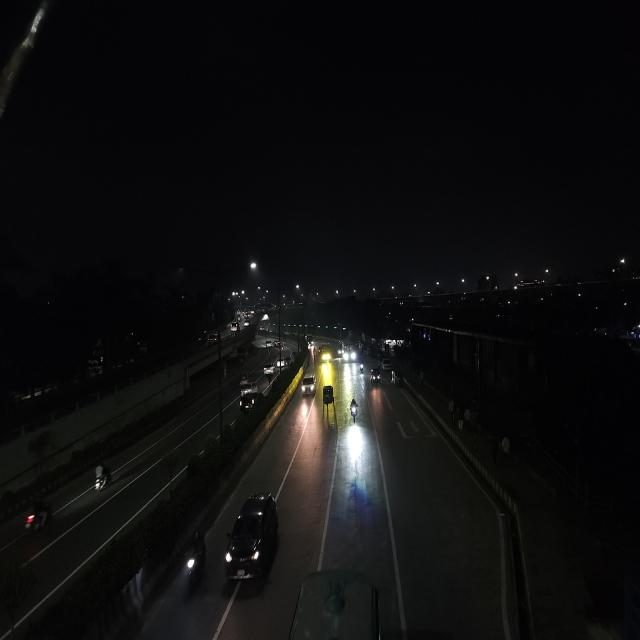bus: (340, 333, 358, 364), (319, 343, 332, 364)
car: (284, 564, 388, 640), (222, 487, 282, 590), (320, 381, 338, 412), (238, 392, 260, 415), (299, 372, 317, 397), (263, 362, 275, 378), (228, 321, 240, 334), (210, 331, 220, 345), (263, 338, 273, 351), (381, 359, 392, 370), (276, 358, 285, 368), (275, 339, 283, 350)
cng: (370, 367, 382, 386), (390, 369, 398, 388), (239, 373, 248, 386)
motorcycle: (182, 526, 208, 601), (23, 492, 55, 538), (90, 460, 112, 493), (348, 396, 360, 426), (360, 359, 365, 376)
pedestrian: (312, 347, 316, 357)
